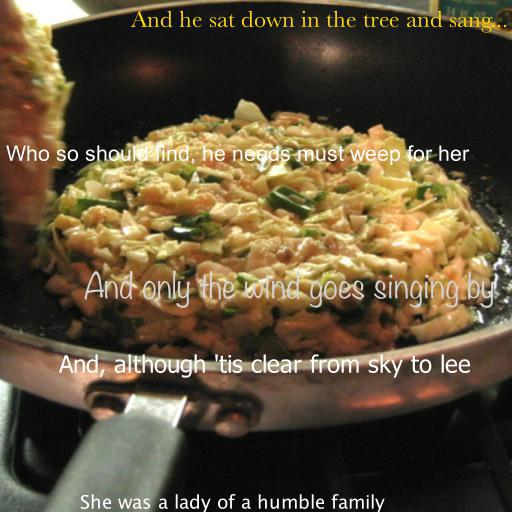Arial: (5, 145, 469, 166)
Baskerville: (130, 10, 508, 33)
Lucida Grande: (79, 494, 385, 512)
Noteworthy: (83, 270, 495, 308)
Tahoma: (59, 354, 471, 378)
